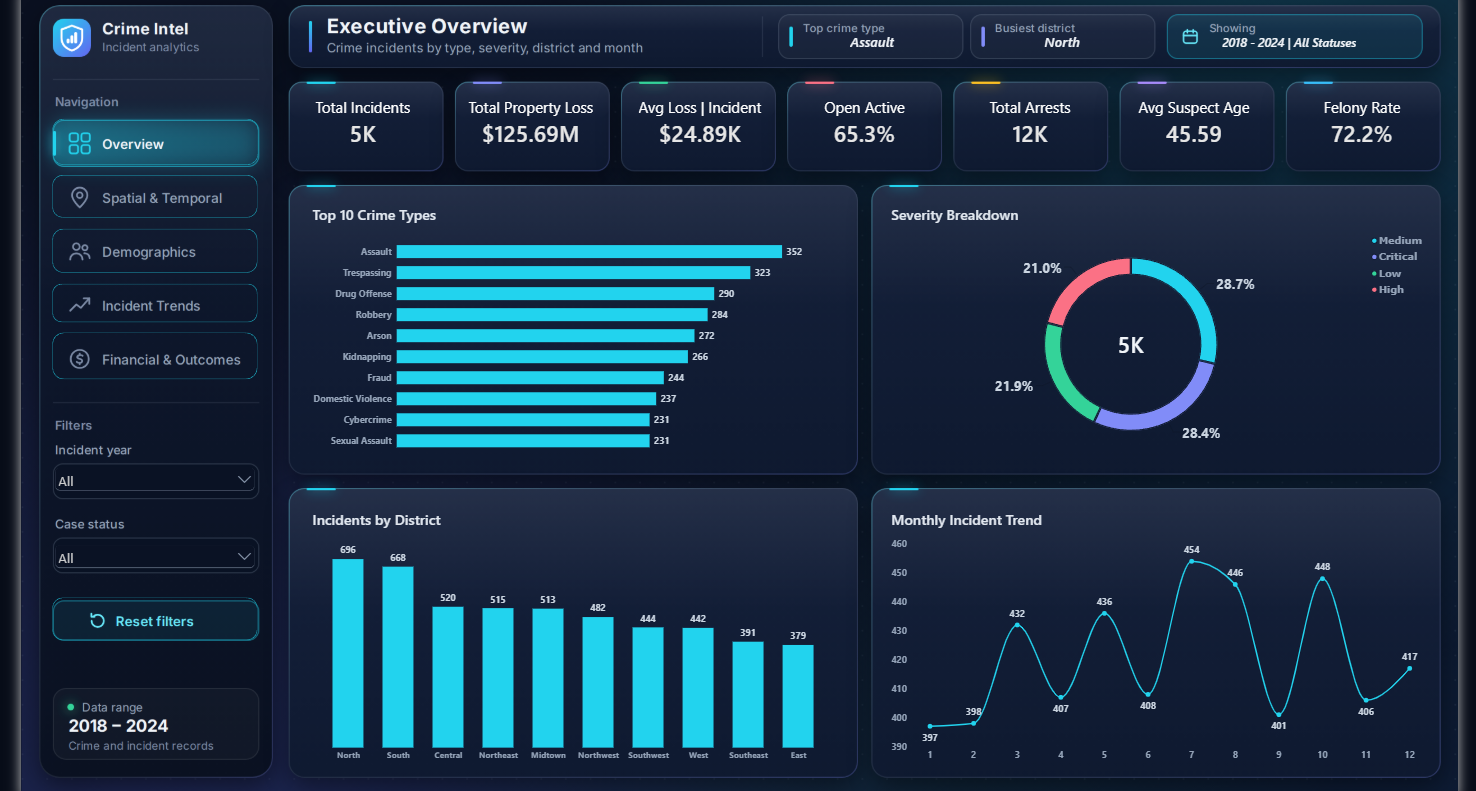

What the dashboard file says about the page in this screenshot:
{"tool":"powerbi","page":{"name":"Overview","canvas":[2560,1440],"ordinal":0},"visuals":[{"type":"clusteredBarChart","title":"Top 10 Crime Types","fields":{"Category":["crime_incidents_cleaned.crime_type"],"Y":["Measures (2).Total Incidents"]},"box":[503.1,368.1,962,478.5],"z":0},{"type":"donutChart","title":"Severity Breakdown","fields":{"Category":["crime_incidents_cleaned.severity"],"Y":["Measures (2).Total Incidents"]},"box":[1533.8,368.1,986.5,478.5],"z":1000},{"type":"clusteredColumnChart","title":"Incidents by District","fields":{"Category":["crime_incidents_cleaned.district"],"Y":["Measures (2).Total Incidents"]},"box":[503.1,910.4,962,483.4],"z":2000},{"type":"slicer","fields":{"Values":["crime_incidents_cleaned.incident_year"]},"box":[56.4,846.6,365.6,63.8],"z":3000},{"type":"slicer","fields":{"Values":["crime_incidents_cleaned.case_status"]},"box":[56.4,984.1,365.6,63.8],"z":4000},{"type":"lineChart","title":"Monthly Incident Trend","fields":{"Category":["crime_incidents_cleaned.incident_month"],"Y":["Measures (2).Total Incidents"]},"box":[1533.8,910.4,986.5,483.4],"z":5000},{"type":"shape","box":[56.4,424.5,365.6,78.5],"z":6000},{"type":"shape","box":[56.4,522.7,365.6,68.7],"z":7000},{"type":"shape","box":[56.4,611,365.6,83.4],"z":8000},{"type":"shape","box":[56.4,1082.2,365.6,76.1],"z":9000},{"type":"shape","box":[56.4,330.5,365.6,76.1],"z":10000},{"type":"cardVisual","fields":{"Data":["Measures (2).Total Incidents"]},"box":[485.9,176.7,247.9,135],"z":11000},{"type":"cardVisual","fields":{"Data":["Measures (2).Total Property Loss"]},"box":[777.9,176.7,262.6,135],"z":12000},{"type":"cardVisual","fields":{"Data":["Measures (2).Avg Loss Per Incident"]},"box":[1082.2,176.7,255.2,135],"z":13000},{"type":"cardVisual","fields":{"Data":["Measures (2).Total Arrests"]},"box":[1668.7,176.7,255.2,135],"z":14000},{"type":"cardVisual","fields":{"Data":["Measures (2).Open Active Pct"]},"box":[1371.8,176.7,262.6,135],"z":15000},{"type":"cardVisual","fields":{"Data":["Measures (2).Avg Suspect Age"]},"box":[1955.8,176.7,269.9,135],"z":16000},{"type":"cardVisual","fields":{"Data":["Measures (2).Felony Rate Pct"]},"box":[2255.2,176.7,267.5,135],"z":17000},{"type":"shape","box":[55.7,229.3,367.3,82.4],"z":18000},{"type":"cardVisual","fields":{"Data":["Measures (2).Overview Fact 1"]},"box":[1358,54,316.6,73.6],"z":19000},{"type":"cardVisual","fields":{"Data":["Measures (2).Overview Fact 2"]},"box":[1696,54,316.6,73.6],"z":20000},{"type":"cardVisual","fields":{"Data":["Measures (2).Header Showing"]},"box":[2027,63.8,466.3,56.4],"z":21000}]}

Visuals, with their boxes on the page's 2560x1440 design canvas (x1, y1, x2, y2). These are canvas units, not pixel positions in the 1476x791 screenshot, which may show the page scaled, cropped or inside an application window:
"Top 10 Crime Types" clusteredBarChart: region(503, 368, 1465, 847)
"Severity Breakdown" donutChart: region(1534, 368, 2520, 847)
"Incidents by District" clusteredColumnChart: region(503, 910, 1465, 1394)
slicer - crime_incidents_cleaned.incident_year: region(56, 847, 422, 910)
slicer - crime_incidents_cleaned.case_status: region(56, 984, 422, 1048)
"Monthly Incident Trend" lineChart: region(1534, 910, 2520, 1394)
shape: region(56, 424, 422, 503)
shape: region(56, 523, 422, 591)
shape: region(56, 611, 422, 694)
shape: region(56, 1082, 422, 1158)
shape: region(56, 330, 422, 407)
cardVisual - Measures (2).Total Incidents: region(486, 177, 734, 312)
cardVisual - Measures (2).Total Property Loss: region(778, 177, 1040, 312)
cardVisual - Measures (2).Avg Loss Per Incident: region(1082, 177, 1337, 312)
cardVisual - Measures (2).Total Arrests: region(1669, 177, 1924, 312)
cardVisual - Measures (2).Open Active Pct: region(1372, 177, 1634, 312)
cardVisual - Measures (2).Avg Suspect Age: region(1956, 177, 2226, 312)
cardVisual - Measures (2).Felony Rate Pct: region(2255, 177, 2523, 312)
shape: region(56, 229, 423, 312)
cardVisual - Measures (2).Overview Fact 1: region(1358, 54, 1675, 128)
cardVisual - Measures (2).Overview Fact 2: region(1696, 54, 2013, 128)
cardVisual - Measures (2).Header Showing: region(2027, 64, 2493, 120)
